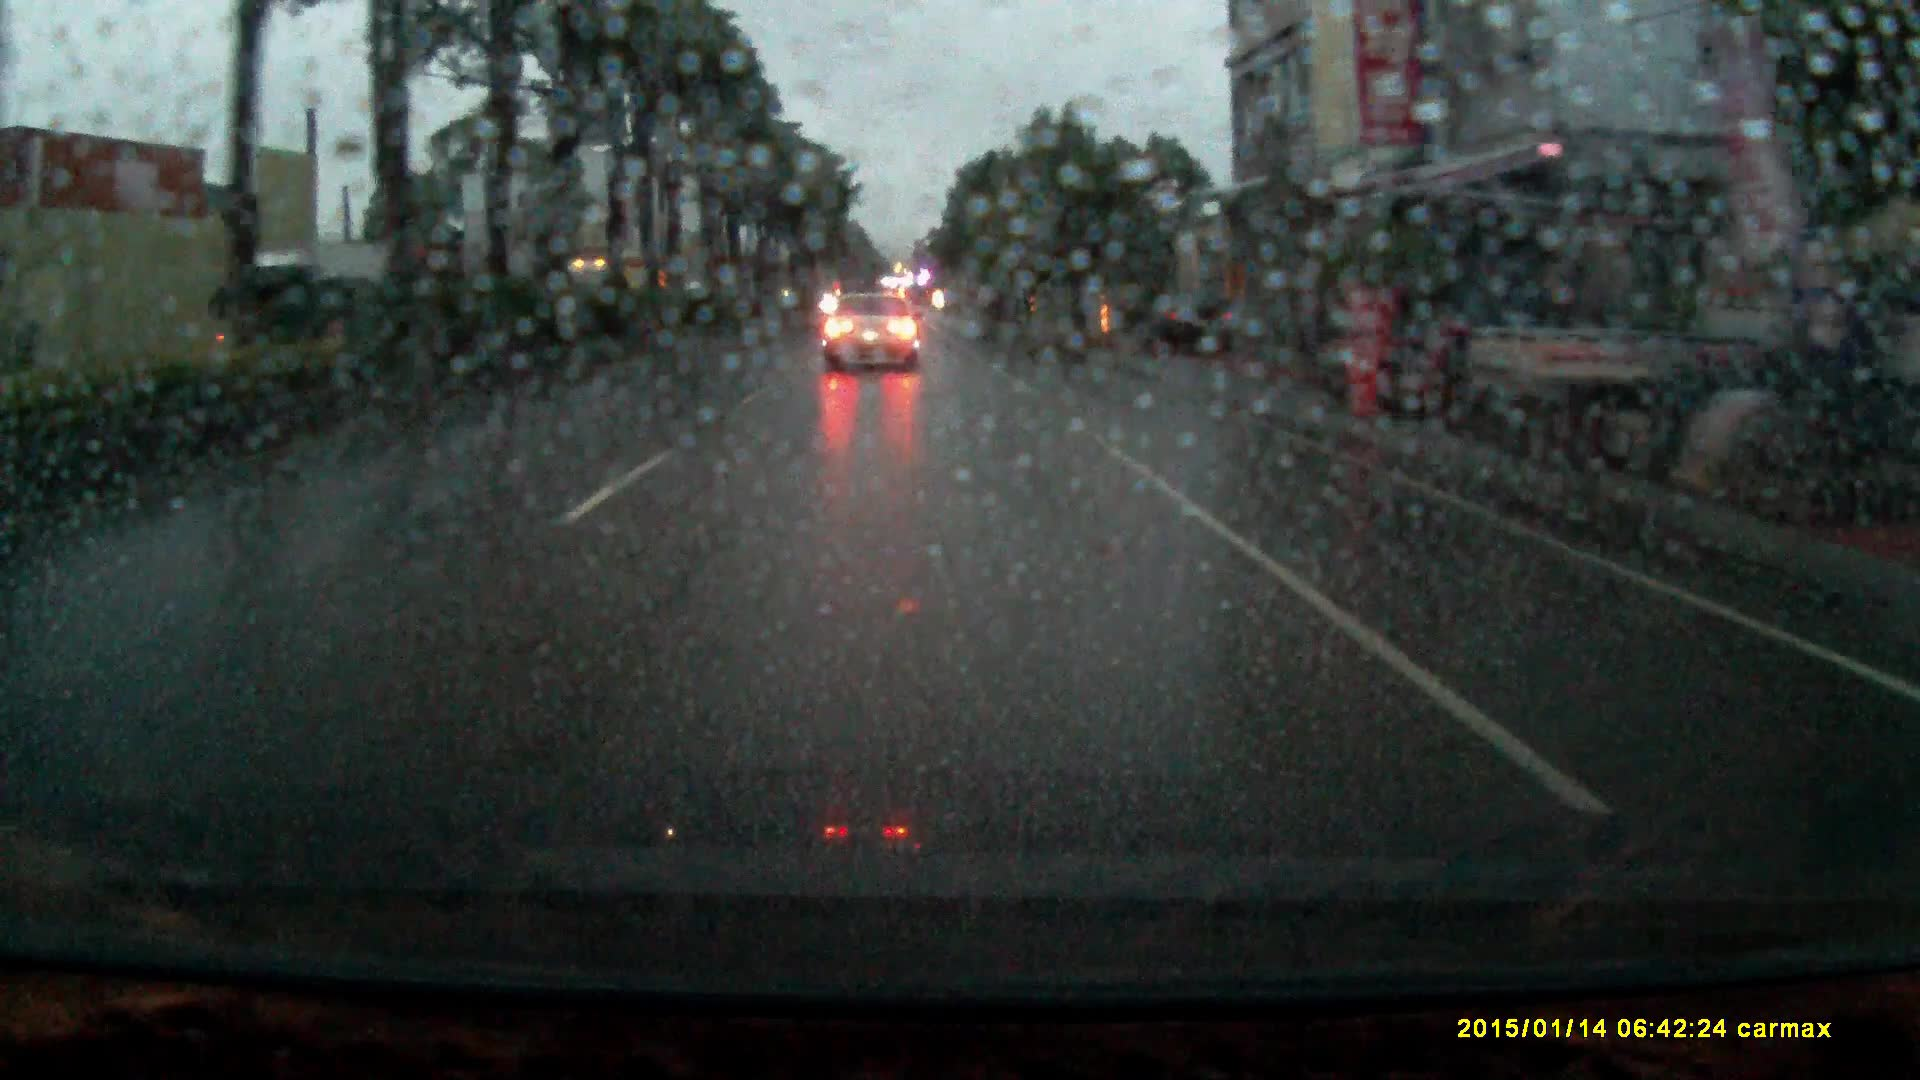vehicle: (215, 248, 406, 361), (823, 294, 923, 378), (1139, 295, 1237, 367), (562, 268, 650, 301)
